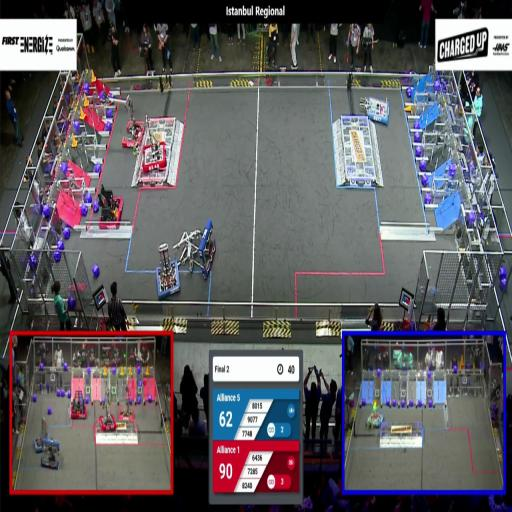robot: (173, 218, 217, 276), (104, 90, 144, 152), (141, 114, 169, 173), (154, 242, 182, 298), (93, 182, 125, 230), (359, 88, 391, 127), (99, 387, 119, 430), (32, 414, 53, 454), (40, 437, 62, 471), (120, 382, 136, 422), (366, 400, 384, 435), (70, 388, 88, 422)
